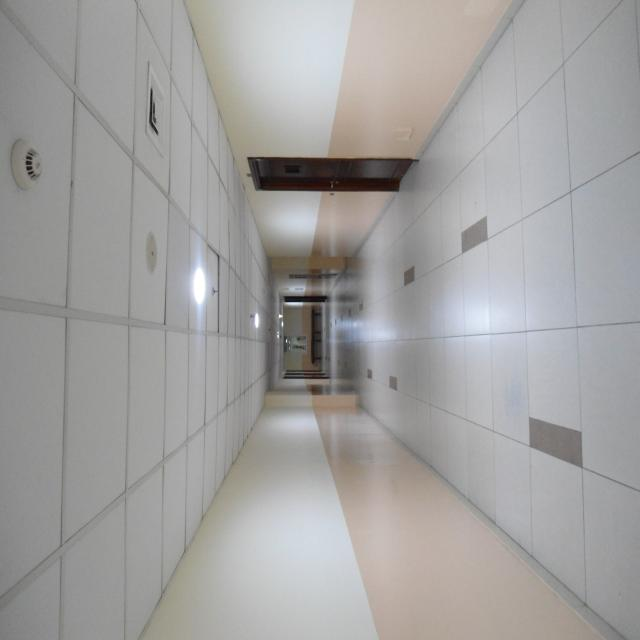door: (242, 160, 416, 195), (279, 291, 327, 303), (285, 372, 329, 378)
path: (327, 0, 640, 638)
wall: (134, 386, 616, 640), (178, 0, 526, 262), (266, 288, 332, 382)
